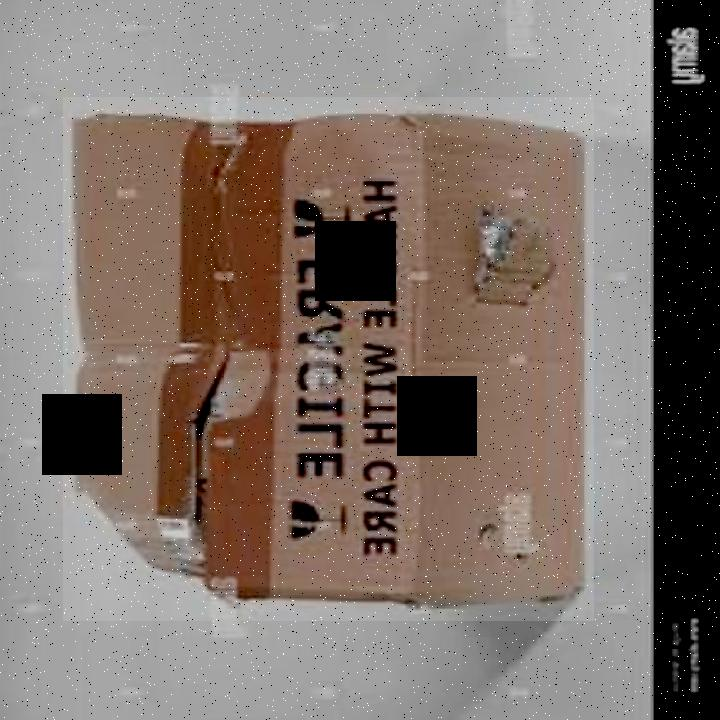box: (63, 97, 596, 621)
